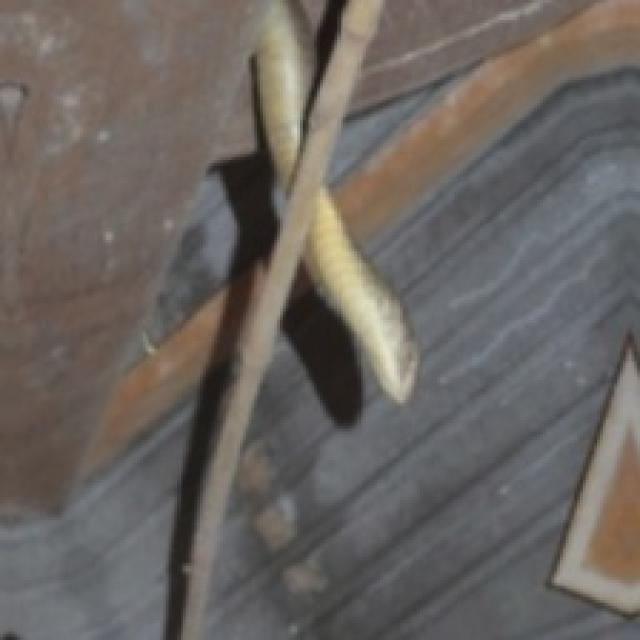king cobra: (306, 186, 417, 400), (257, 0, 309, 183)
